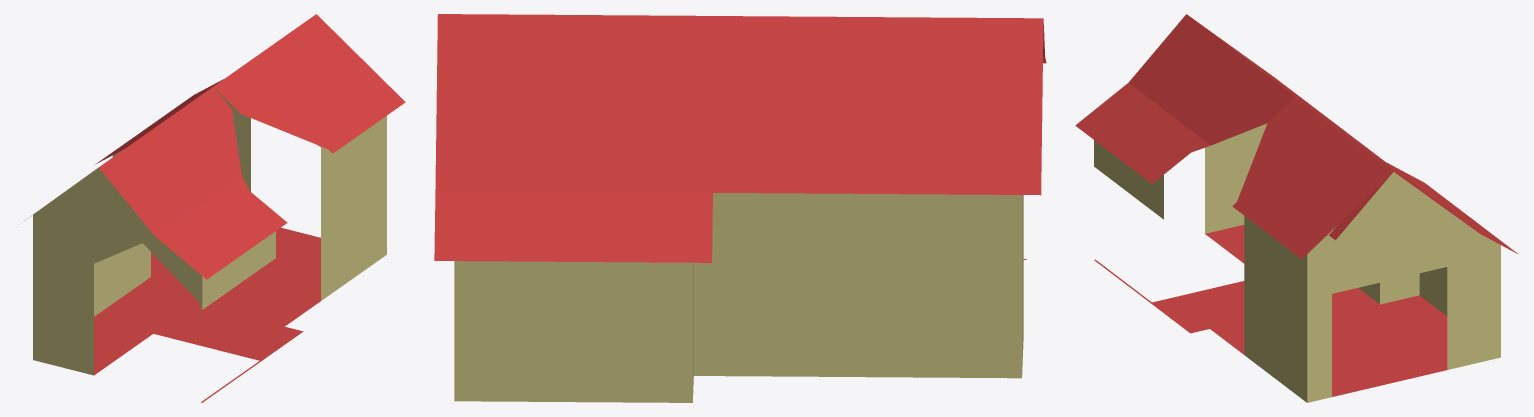
3 views of the same model, side by side, from view 1: azimuth 30°, elevation 25°; view 2: azimuth 150°, elevation 25°; view 3: azimuth 270°, elevation 25° (orthographic). The views are drawn at different scales.
Bounding box in the file's own units: 25.76 × 24.25 × 13.1.
